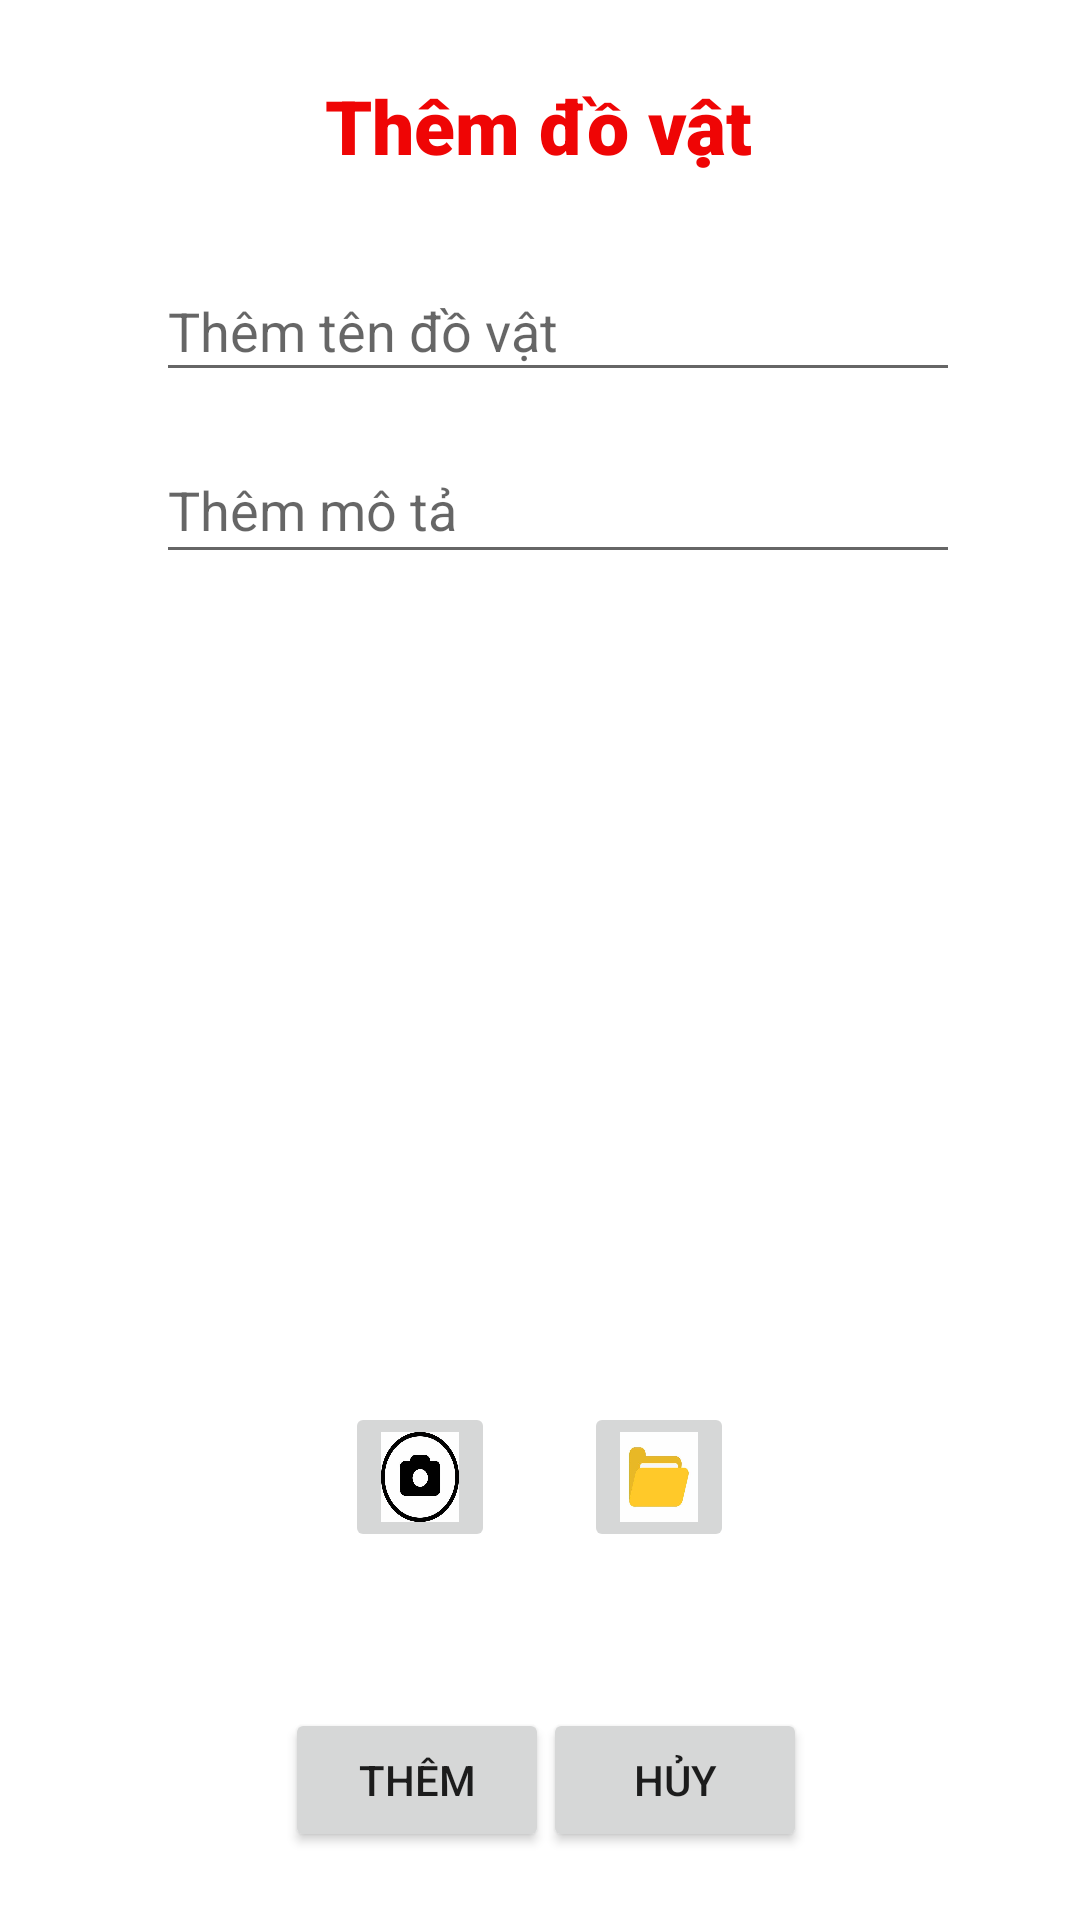

Named icons in this screenshot (1080 × 1920) and their bounding boxes, {"x1": x1, "y1": y1, "x2": x2, "y2": y2}:
camera: {"x1": 357, "y1": 1420, "x2": 483, "y2": 1534}
folder: {"x1": 596, "y1": 1420, "x2": 722, "y2": 1534}
